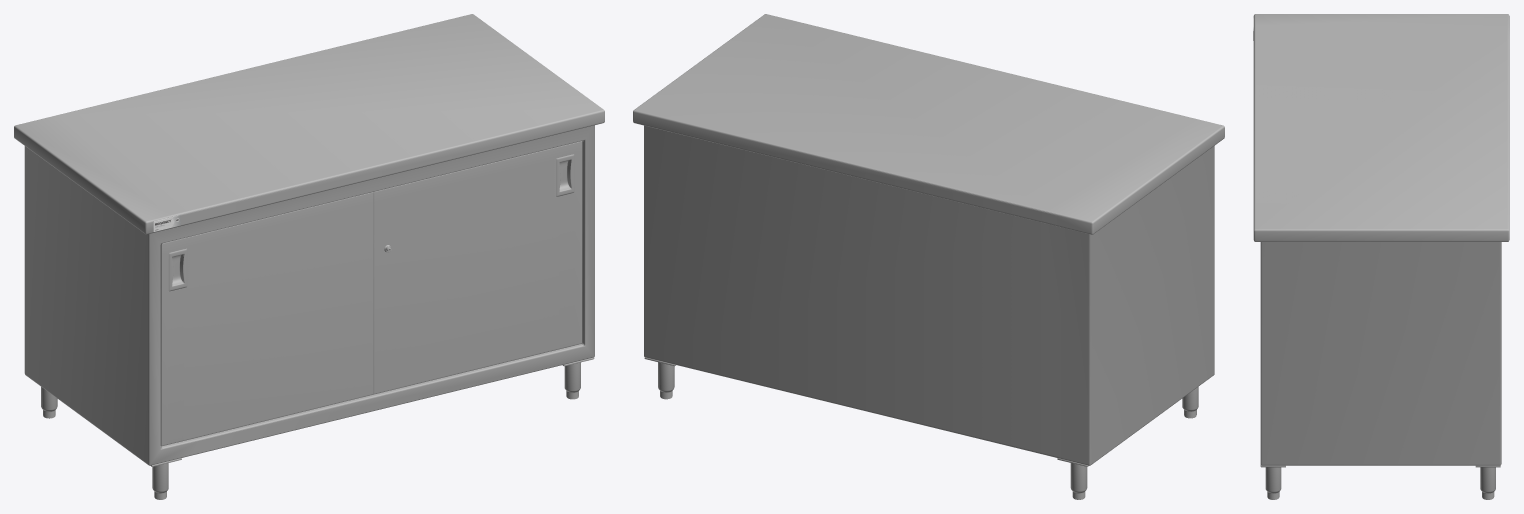
3 renders of one model, left to right at view 1: azimuth 30°, elevation 25°; view 2: azimuth 150°, elevation 25°; view 3: azimuth 270°, elevation 25°, orthographic. The views are drawn at different scales.
Visible parts, largest first — view 1: 600EBT2436D.009; view 2: 600EBT2436D.009; view 3: 600EBT2436D.009.
Boxes of the visible parts, bbox=[...] form: 600EBT2436D.009: bbox=[14, 14, 604, 499]; 600EBT2436D.009: bbox=[633, 14, 1224, 499]; 600EBT2436D.009: bbox=[1253, 14, 1509, 499].
Bounding box in the file's own units: 1.52 × 0.9144 × 0.762.
2 materials, 1 textured.
